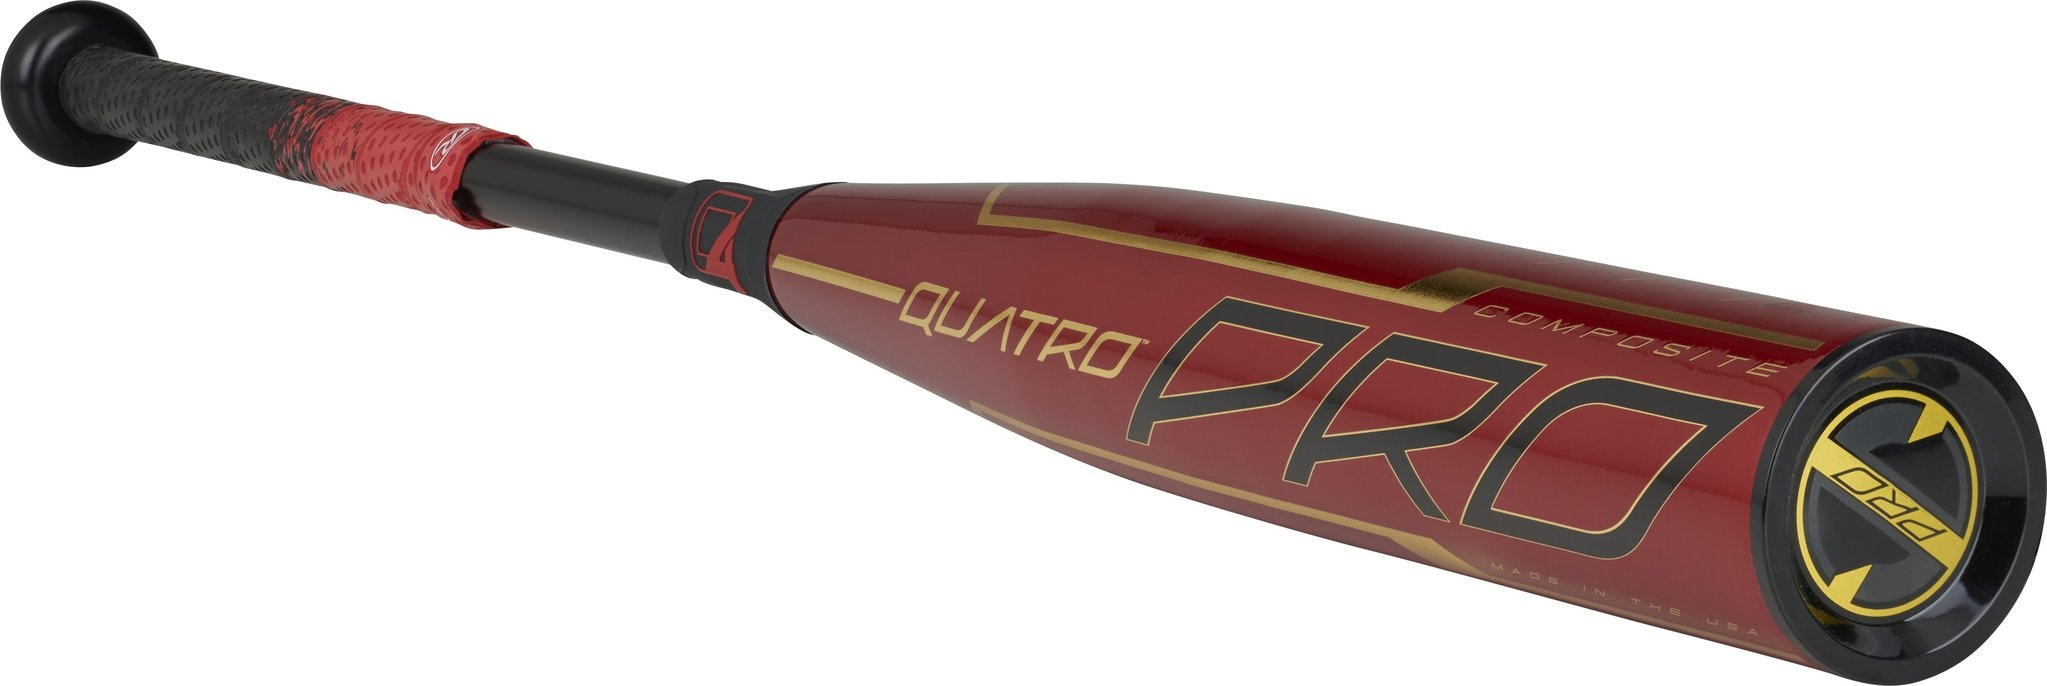bita: (47, 42, 1993, 676)
